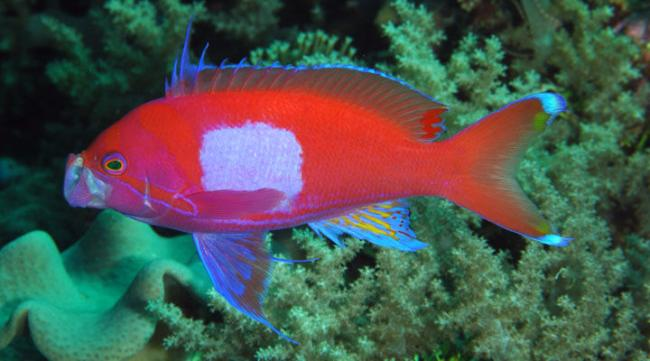fish: (63, 13, 566, 344)
